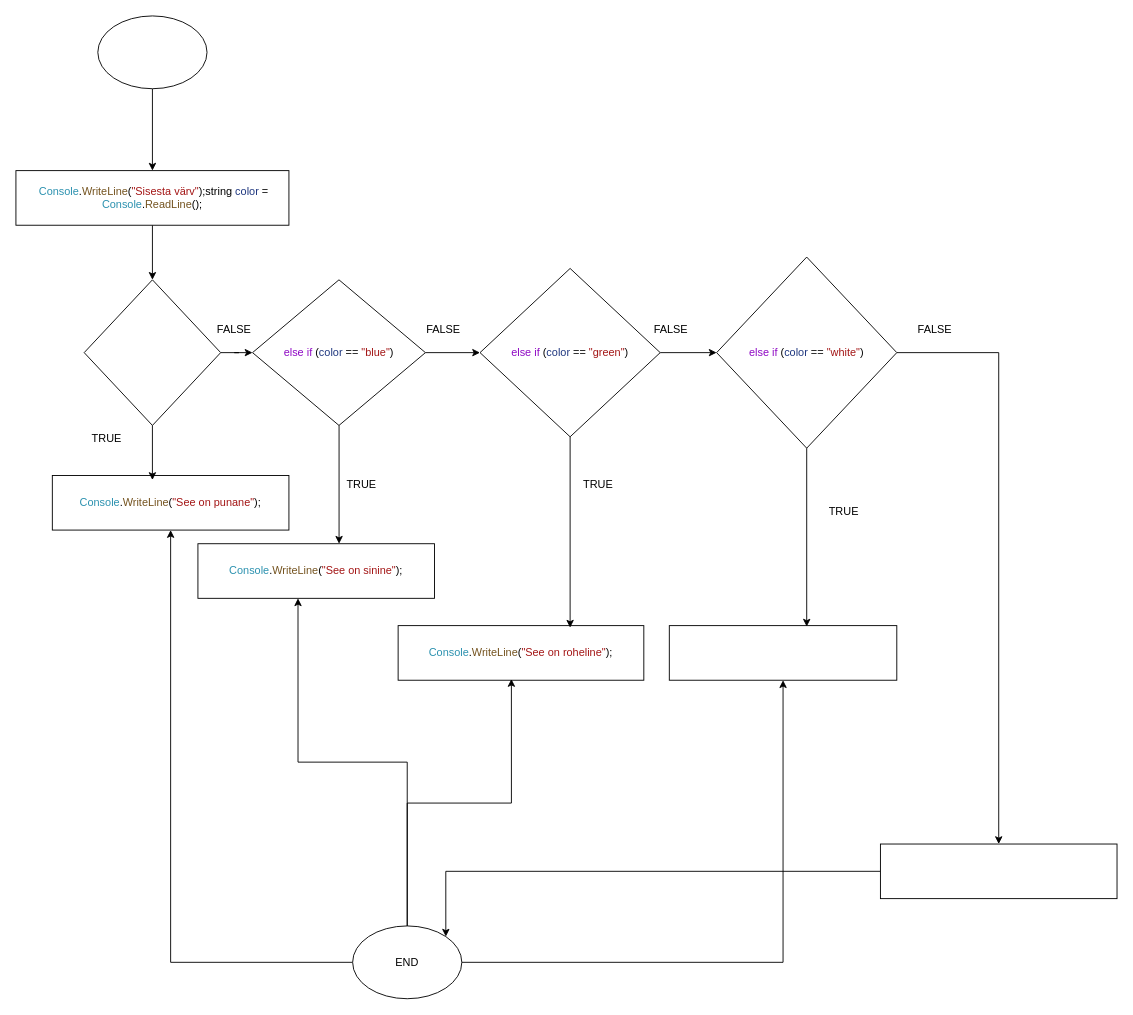
The diagram is 1133 pixels wide and 1015 high, and some of its shapes have lost their labels. Here are the shapes that lost their labels. From the top down, the centre of each, then its label:
point (152, 52): START
point (152, 352): if ( color == "red" )
point (782, 652): Console . WriteLine ( "See on valge" );
point (998, 871): Console . WriteLine ( "Kahtlane värv" );
